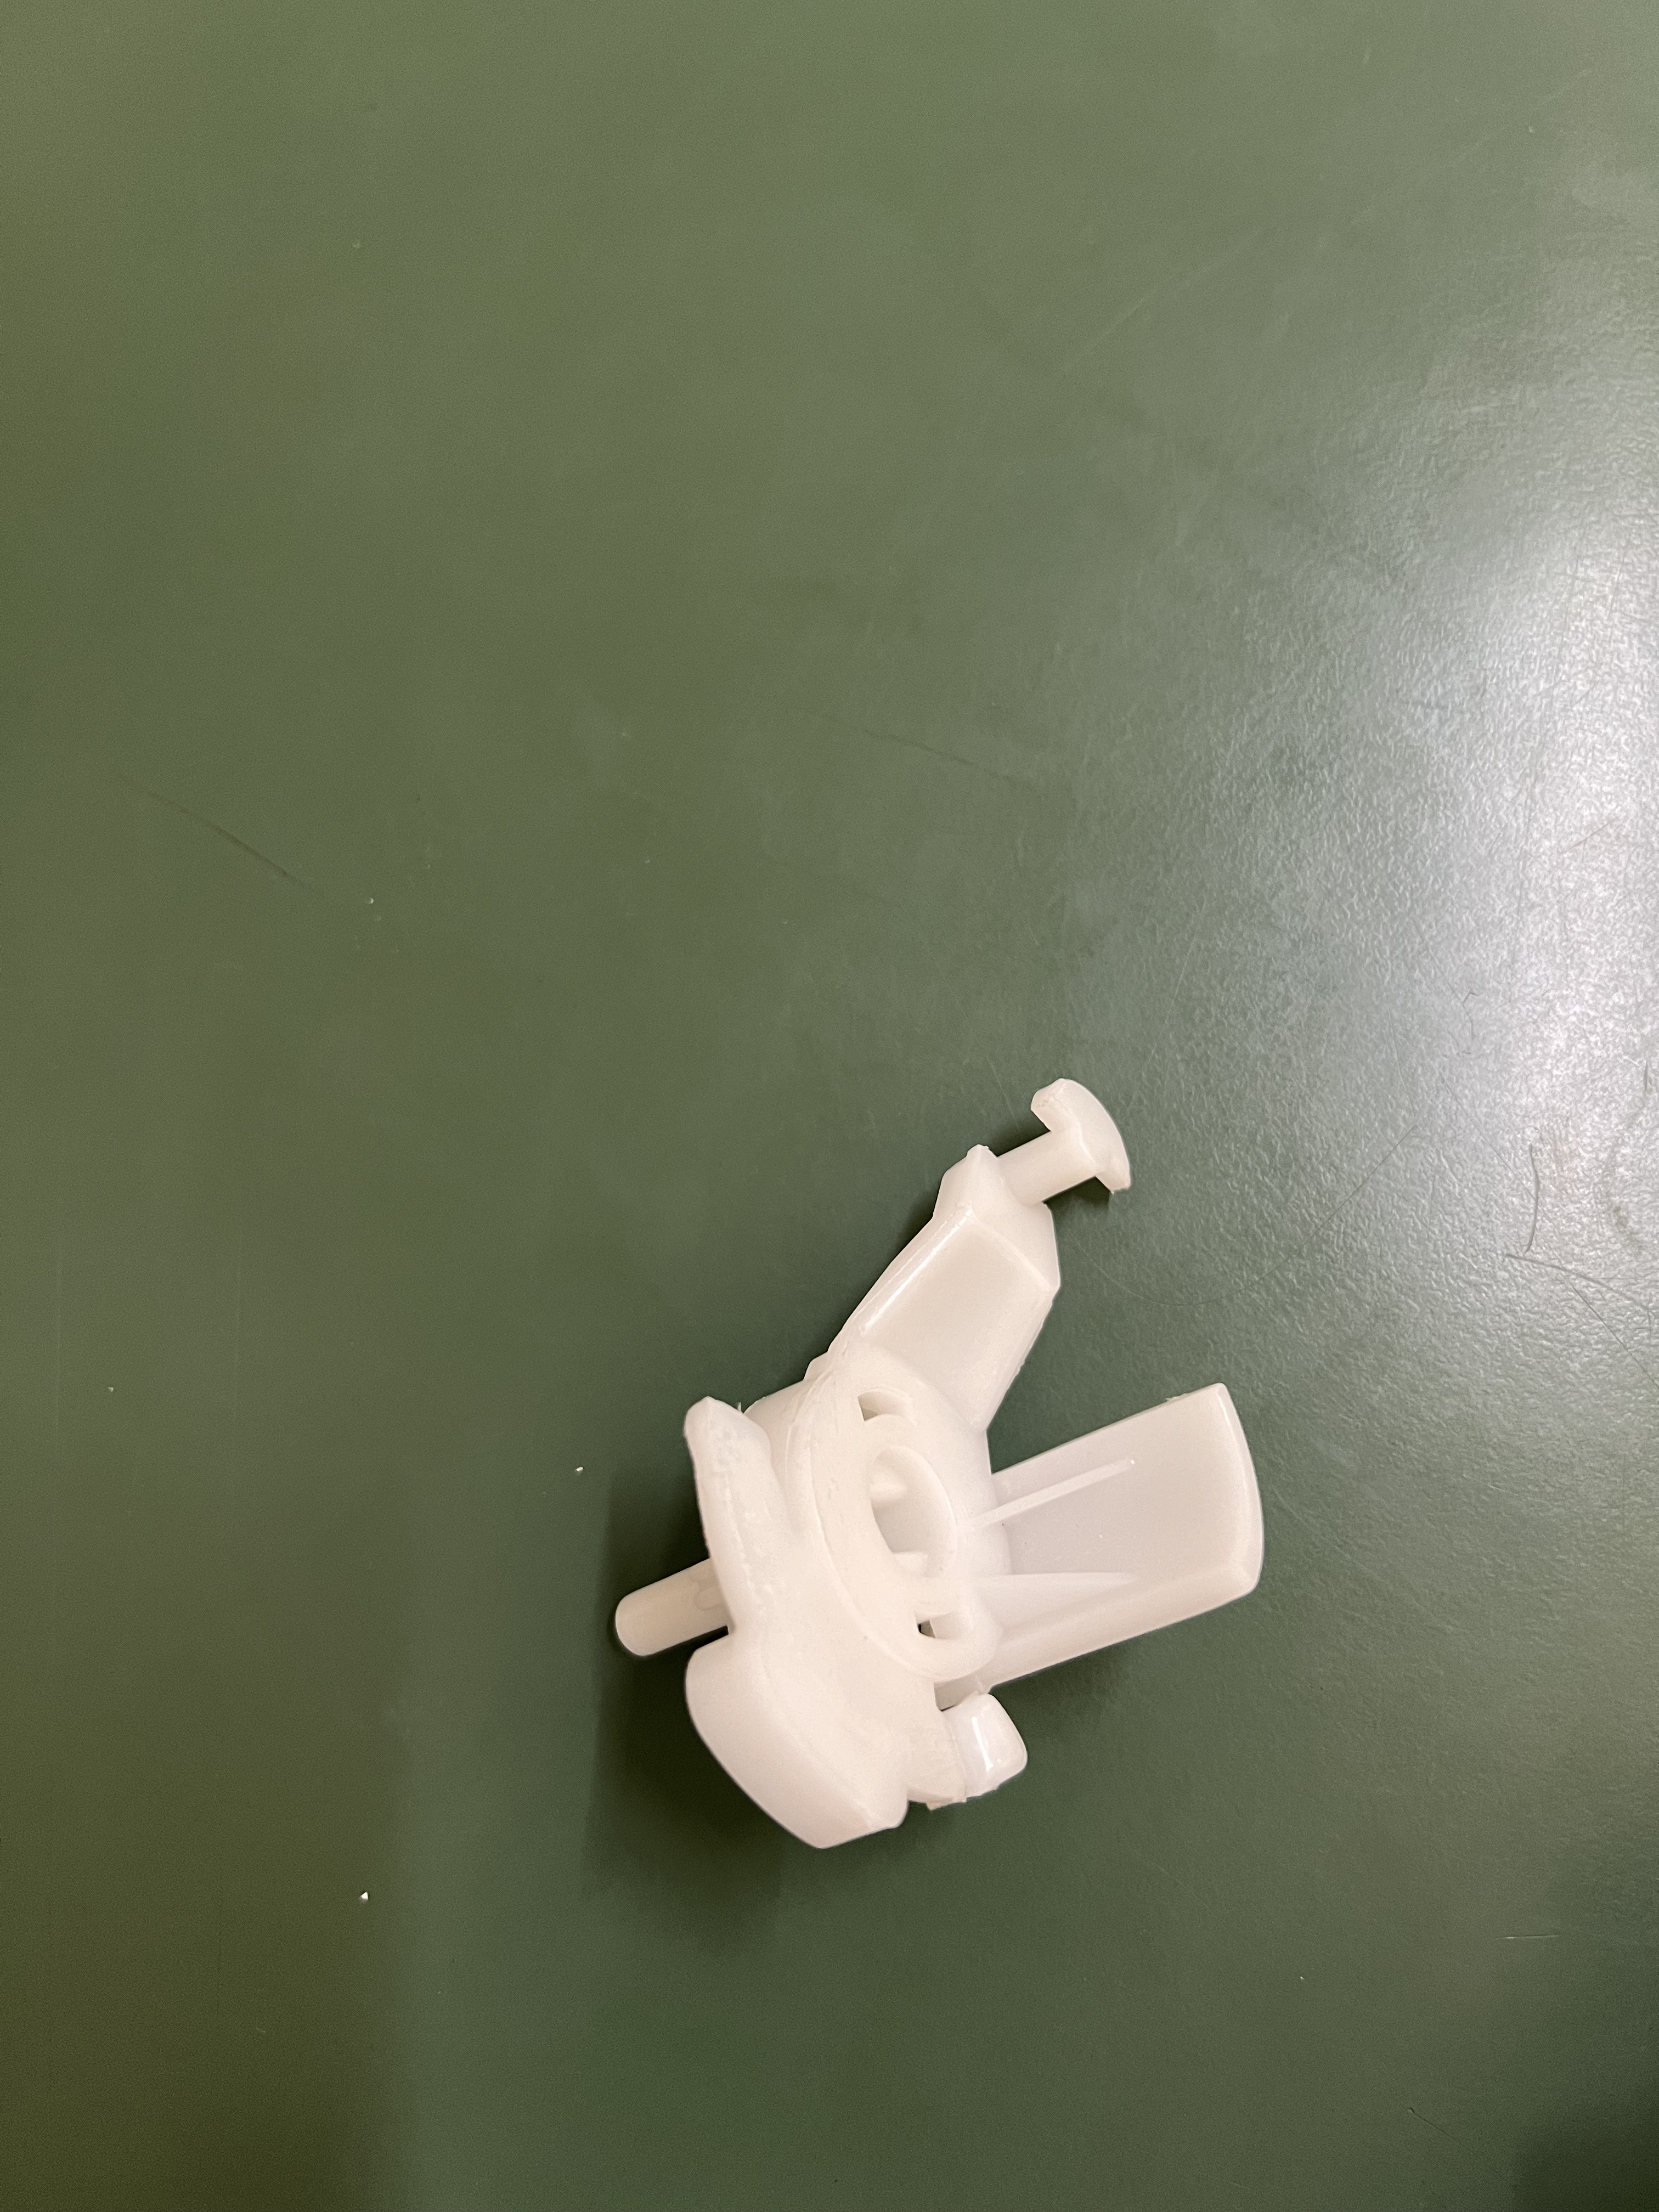drain_lever: (606, 1064, 1305, 1855)
